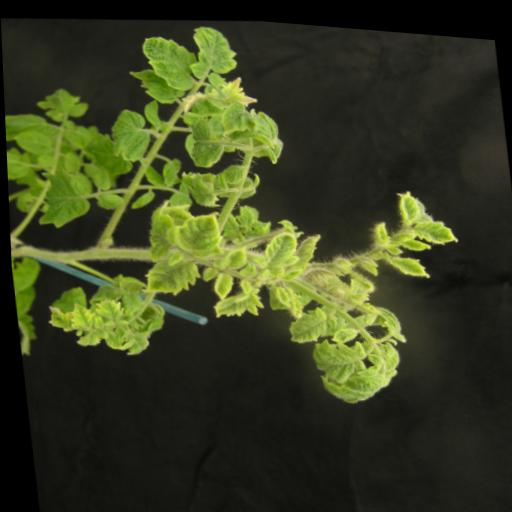Yellow Leaf Curl Virus: (309, 342, 404, 402), (180, 18, 244, 80), (141, 30, 199, 91), (309, 330, 370, 380), (169, 202, 224, 257), (133, 253, 200, 298), (280, 297, 331, 341), (256, 223, 301, 271), (208, 281, 260, 319), (408, 210, 459, 242), (36, 299, 81, 333), (380, 243, 429, 273), (393, 177, 424, 217), (96, 294, 129, 328), (69, 296, 93, 329)
